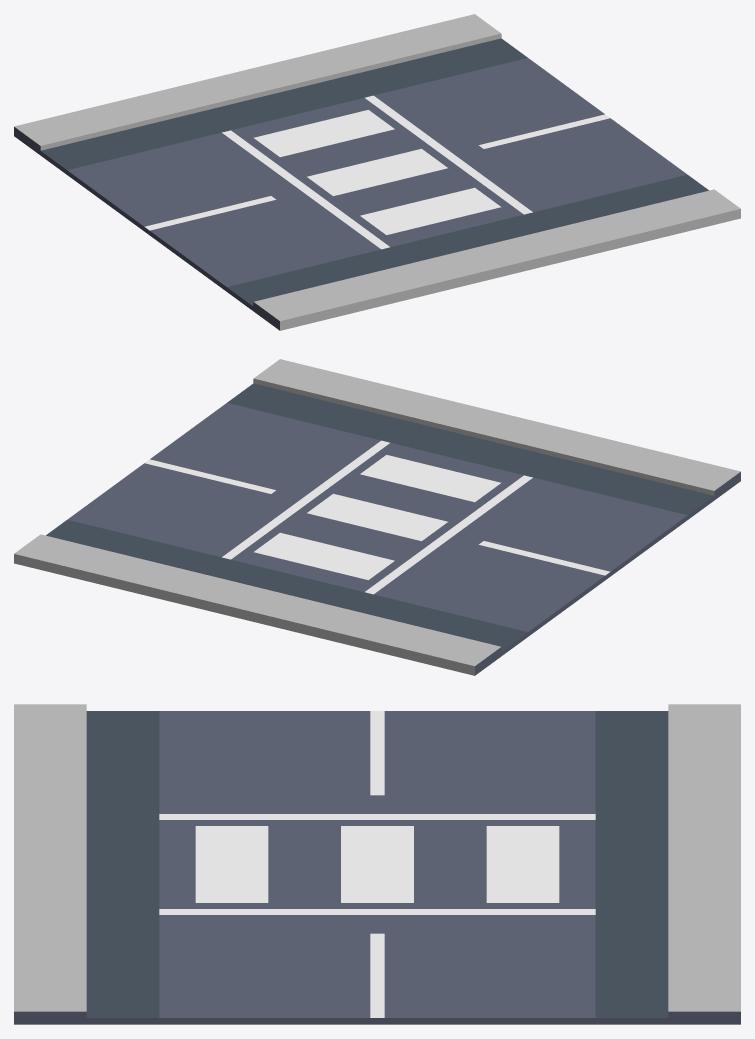
The model's file is SM_Road_Crossing.fbx.
3 views of the same model, one above another, from view 1: azimuth 30°, elevation 25°; view 2: azimuth 150°, elevation 25°; view 3: azimuth 270°, elevation 25° (orthographic). The views are drawn at different scales.
Visible parts, largest first — view 1: SM_Road_Crossing; view 2: SM_Road_Crossing; view 3: SM_Road_Crossing.
Boxes of the visible parts, box(x1,y1,x2,y2) form: SM_Road_Crossing: box(14, 14, 740, 330); SM_Road_Crossing: box(14, 359, 740, 675); SM_Road_Crossing: box(14, 704, 740, 1024).
Bounding box in the file's own units: 1000 × 20 × 1000.
